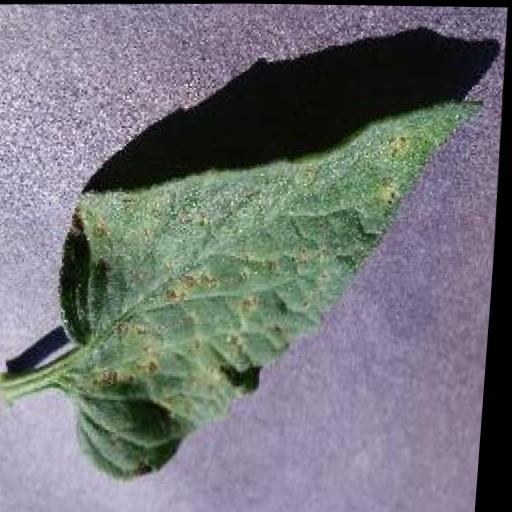Septoria: (49, 93, 493, 487)
